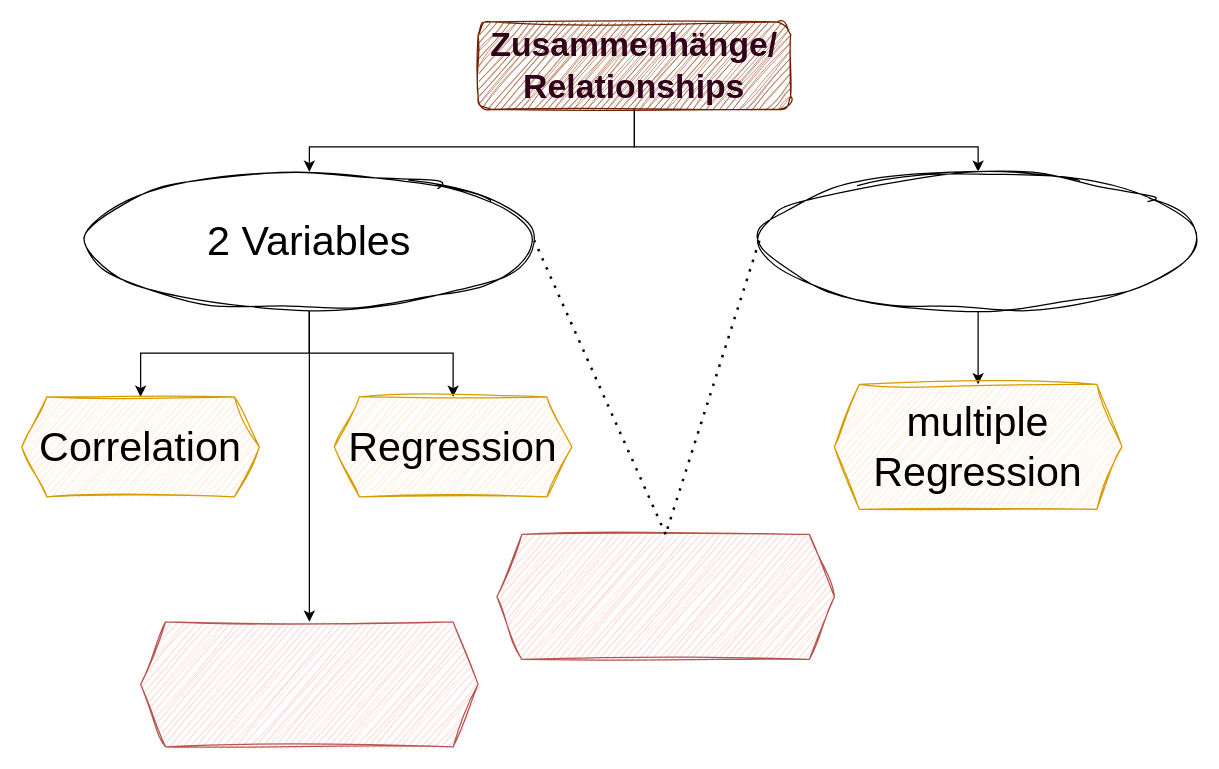
This 1219x769 diagram has some shape labels left out. The box of each missing label's shape, as (x1, y1, x2, y2) in pixels:
> 2 Variables: (758, 171, 1197, 309)
Logistische/ Logistic Regression: (496, 533, 834, 659)
Rang-Korrelation/ Rank-order-correlation: (139, 621, 478, 747)
